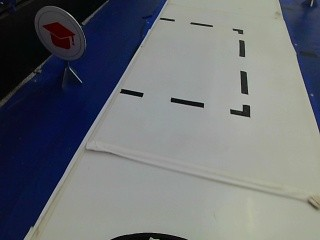school: (33, 7, 85, 64)
